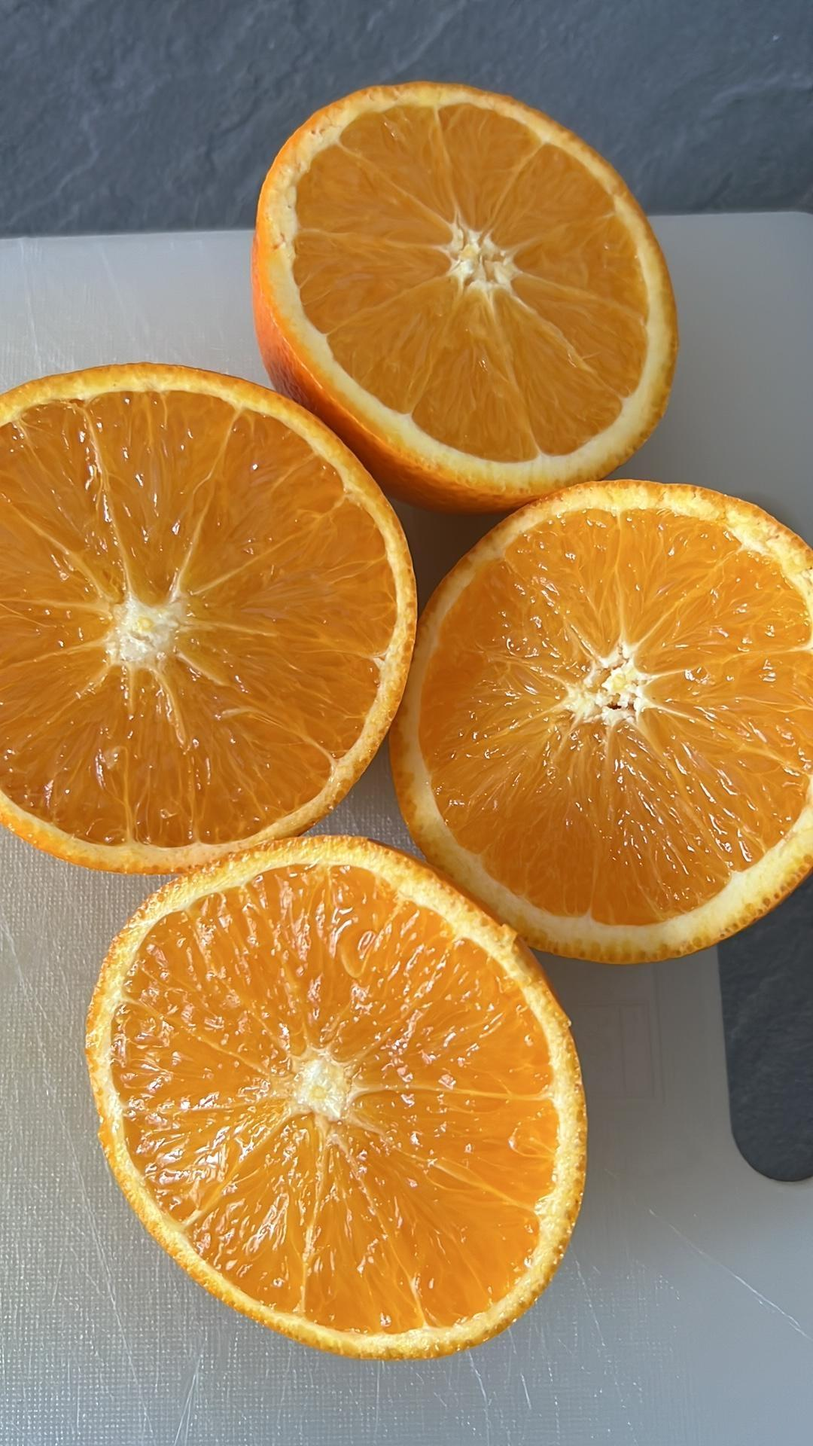orange: (87, 840, 587, 1363), (0, 369, 420, 874), (405, 480, 813, 988), (263, 77, 678, 491)
